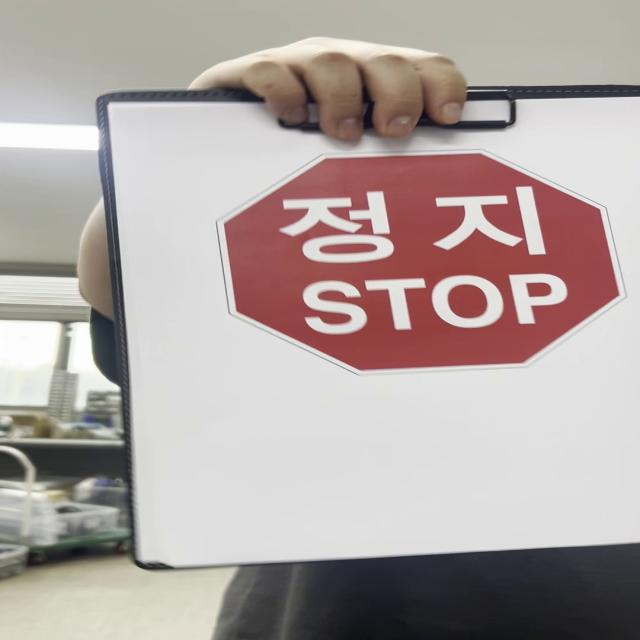stop: (214, 150, 631, 373)
